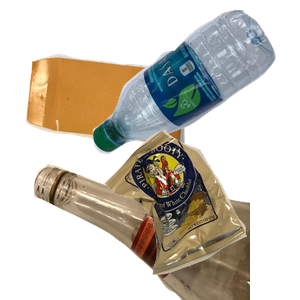glass: (31, 120, 271, 300)
paper: (23, 51, 206, 189)
plastic: (90, 10, 300, 156)
trash: (101, 127, 300, 300)
